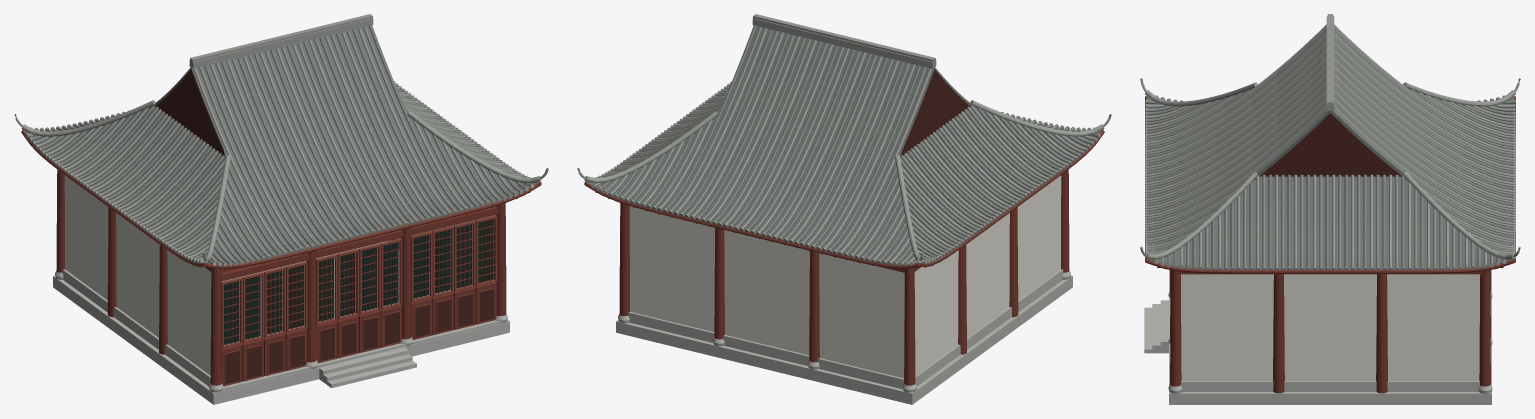
File: chongming-chongsheng-shrine-raw.glb
3 views of the same model, side by side, from view 1: azimuth 30°, elevation 25°; view 2: azimuth 150°, elevation 25°; view 3: azimuth 270°, elevation 25° (orthographic).
Visible parts, largest first — view 1: 崇明学宫崇圣祠正殿; view 2: 崇明学宫崇圣祠正殿; view 3: 崇明学宫崇圣祠正殿.
Part boxes in pixels (box(x1,y1,x2,y2)): 崇明学宫崇圣祠正殿: box(14, 14, 548, 404); 崇明学宫崇圣祠正殿: box(577, 14, 1111, 404); 崇明学宫崇圣祠正殿: box(1140, 14, 1520, 404).
Bounding box in the file's own units: 14.6 × 11 × 13.85.
